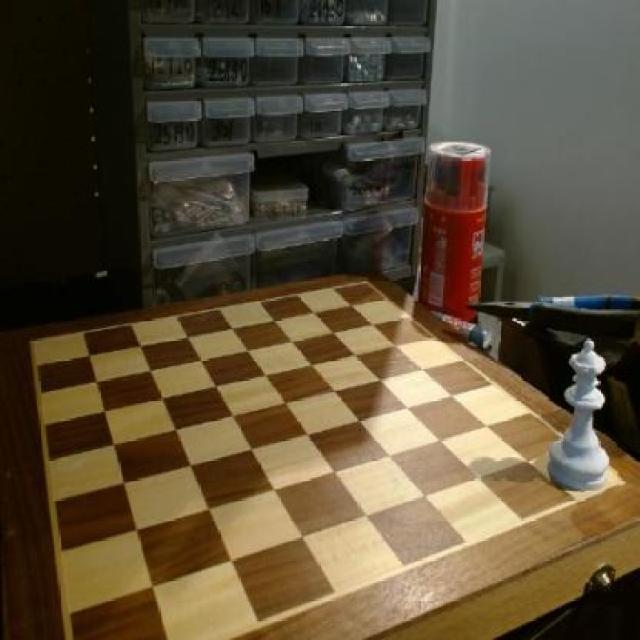white-pawn: (549, 335, 618, 503)
